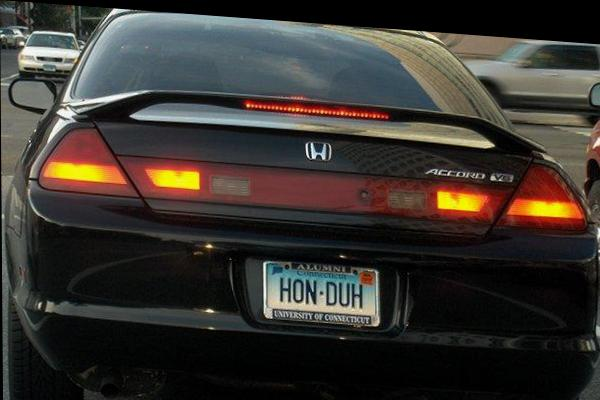License_Plate: (258, 253, 392, 338)
